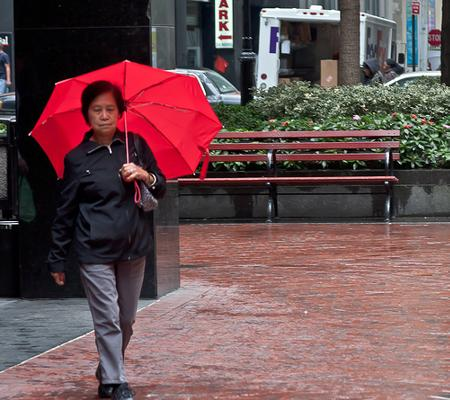person: (47, 81, 169, 400)
